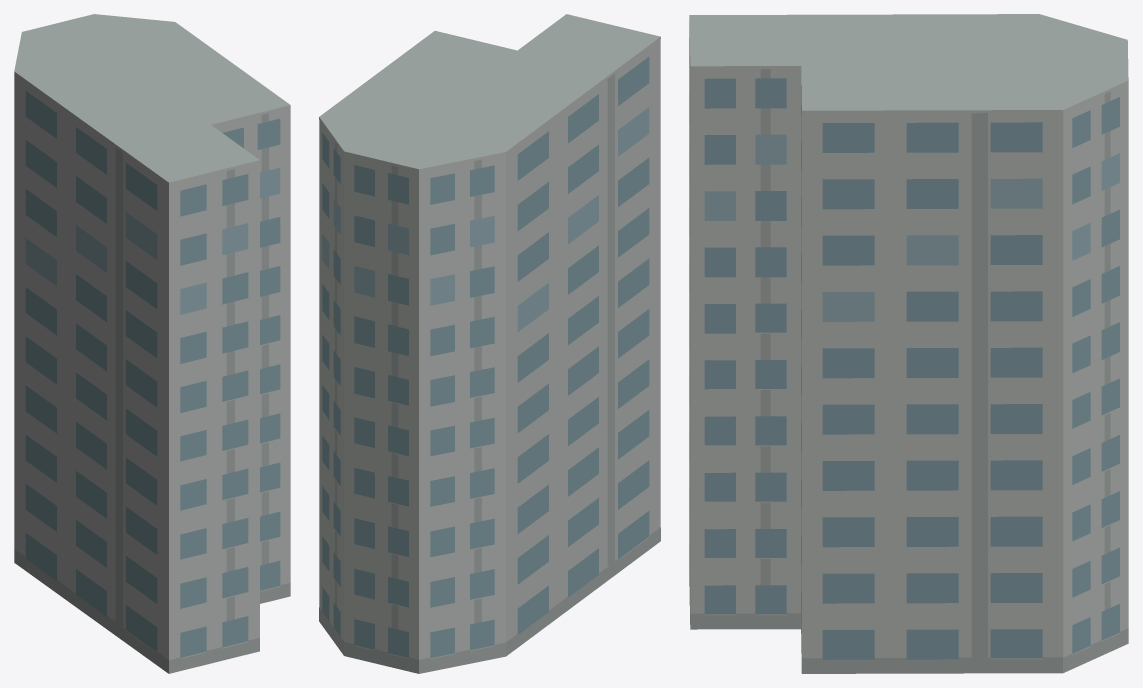
File: residential-c640eb85-b530-41c8-b422-7e6e65e64730.glb
The picture shows the model from 3 angles, left to right: view 1: azimuth 30°, elevation 25°; view 2: azimuth 150°, elevation 25°; view 3: azimuth 270°, elevation 25°; orthographic projection. The views are drawn at different scales.
Parts seen in each view (by area): view 1: residential-c640eb85-b530-41c8-b422-7e6e65e64730.tmp; view 2: residential-c640eb85-b530-41c8-b422-7e6e65e64730.tmp; view 3: residential-c640eb85-b530-41c8-b422-7e6e65e64730.tmp.
Boxes of the visible parts, box(x1,y1,x2,y2) form: residential-c640eb85-b530-41c8-b422-7e6e65e64730.tmp: box(14, 14, 290, 673); residential-c640eb85-b530-41c8-b422-7e6e65e64730.tmp: box(319, 14, 660, 673); residential-c640eb85-b530-41c8-b422-7e6e65e64730.tmp: box(689, 14, 1128, 673).
Size of the model in its own units: 16.95 by 46 by 32.52.
